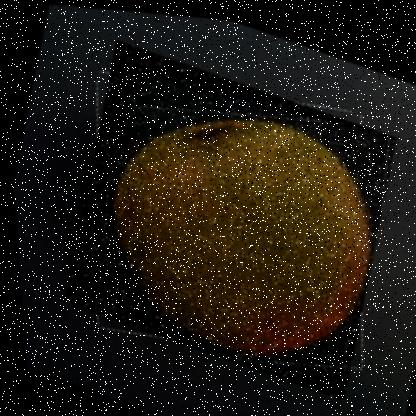mango: (43, 30, 411, 399)
